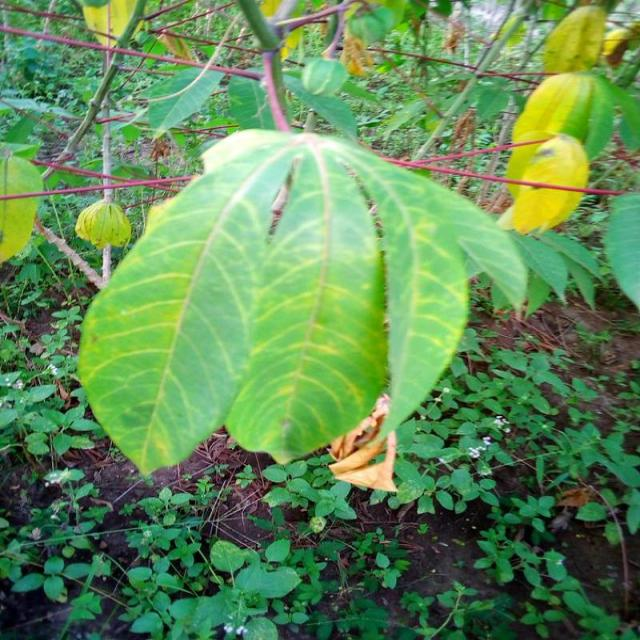cassava leaf: (75, 127, 528, 480)
